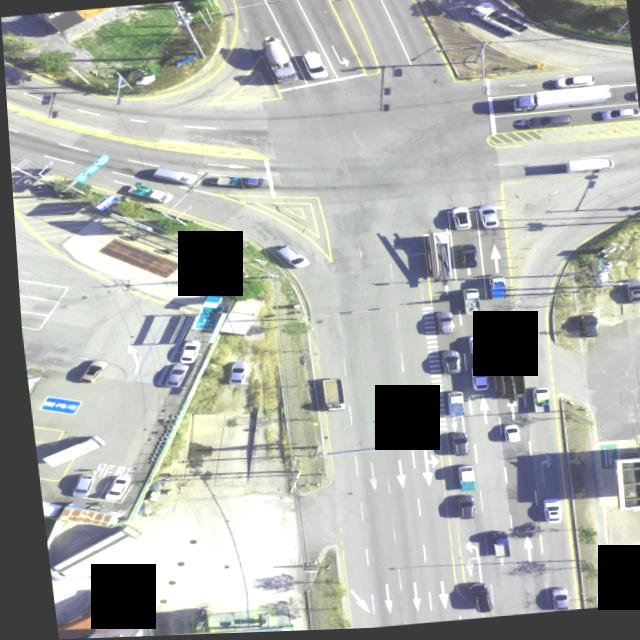car: (147, 165, 196, 188), (70, 358, 108, 385), (270, 247, 306, 273), (299, 53, 326, 82), (95, 478, 125, 503), (64, 474, 92, 500), (524, 118, 569, 133), (157, 366, 183, 389), (174, 341, 198, 365), (434, 351, 456, 377), (430, 313, 450, 339), (221, 362, 243, 385), (465, 369, 485, 394), (534, 501, 554, 526), (443, 437, 463, 462), (455, 248, 475, 273), (474, 210, 494, 234), (449, 501, 469, 525), (541, 591, 561, 615), (554, 79, 593, 91), (596, 112, 638, 123), (488, 314, 508, 337), (448, 211, 468, 234), (575, 320, 595, 342), (621, 288, 640, 307), (495, 427, 513, 447), (463, 338, 481, 358)
medium_truck: (42, 527, 139, 580), (511, 91, 610, 117), (468, 5, 528, 46), (30, 436, 100, 467), (259, 36, 299, 86), (486, 349, 522, 403), (424, 235, 452, 287), (459, 586, 485, 618), (316, 380, 340, 414)
small_truck: (199, 176, 265, 197), (122, 181, 170, 205), (563, 161, 613, 177), (449, 467, 469, 495), (440, 393, 460, 421), (481, 279, 502, 305), (458, 292, 478, 319), (524, 391, 545, 416), (481, 537, 501, 563)
